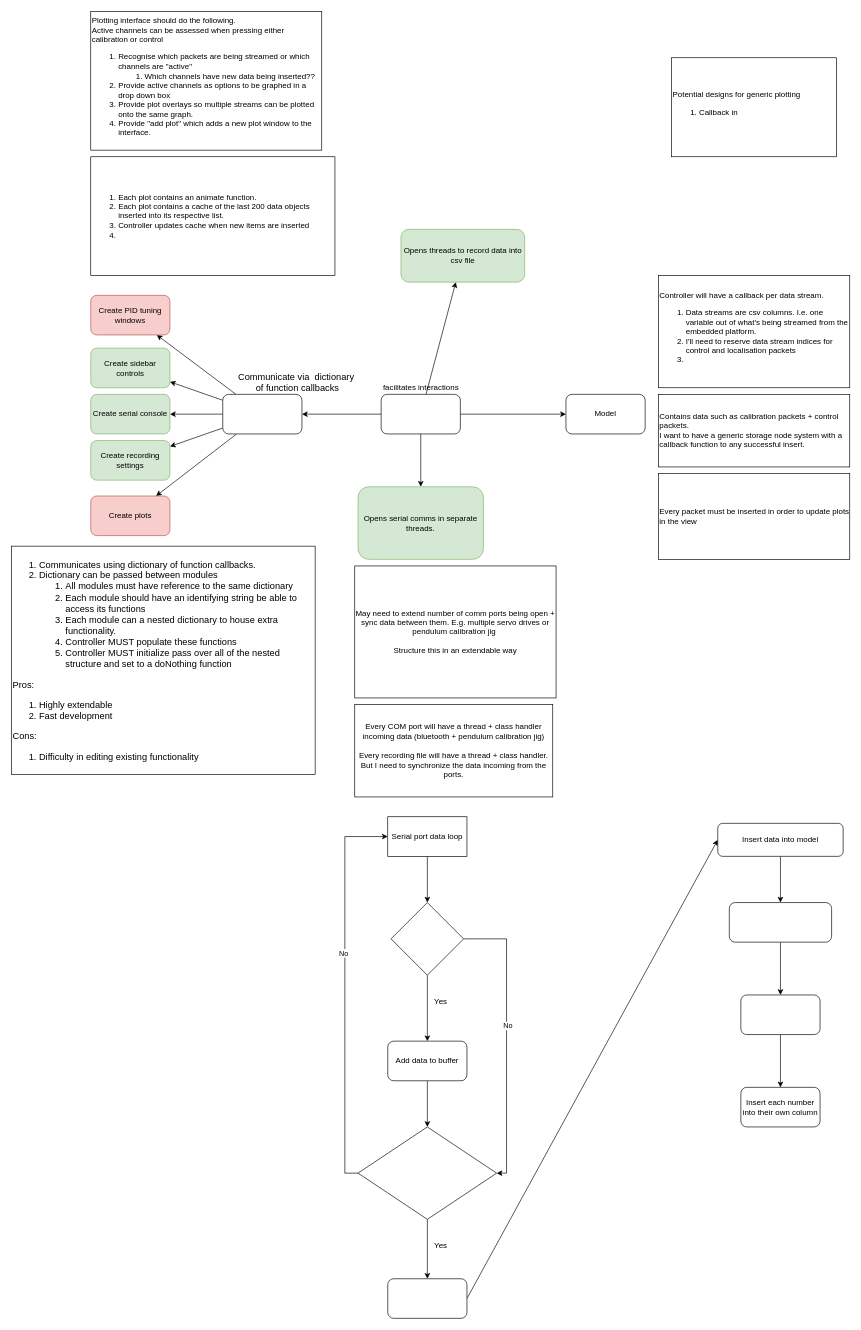
Image size: 861x1330. Some labels were removed from this diagram. Here are the shapes that lost their labels. From the top down, the centre of each, then its label:
the point at 262,414: View
the point at 420,414: Controller
the point at 427,938: Is data available?
the point at 780,922: Insert into model dict based on packet ID
the point at 780,1014: Split payload data into columns on each comma
the point at 427,1172: Isi a full packet available in the buffer
the point at 427,1298: Decipher header and send to model
